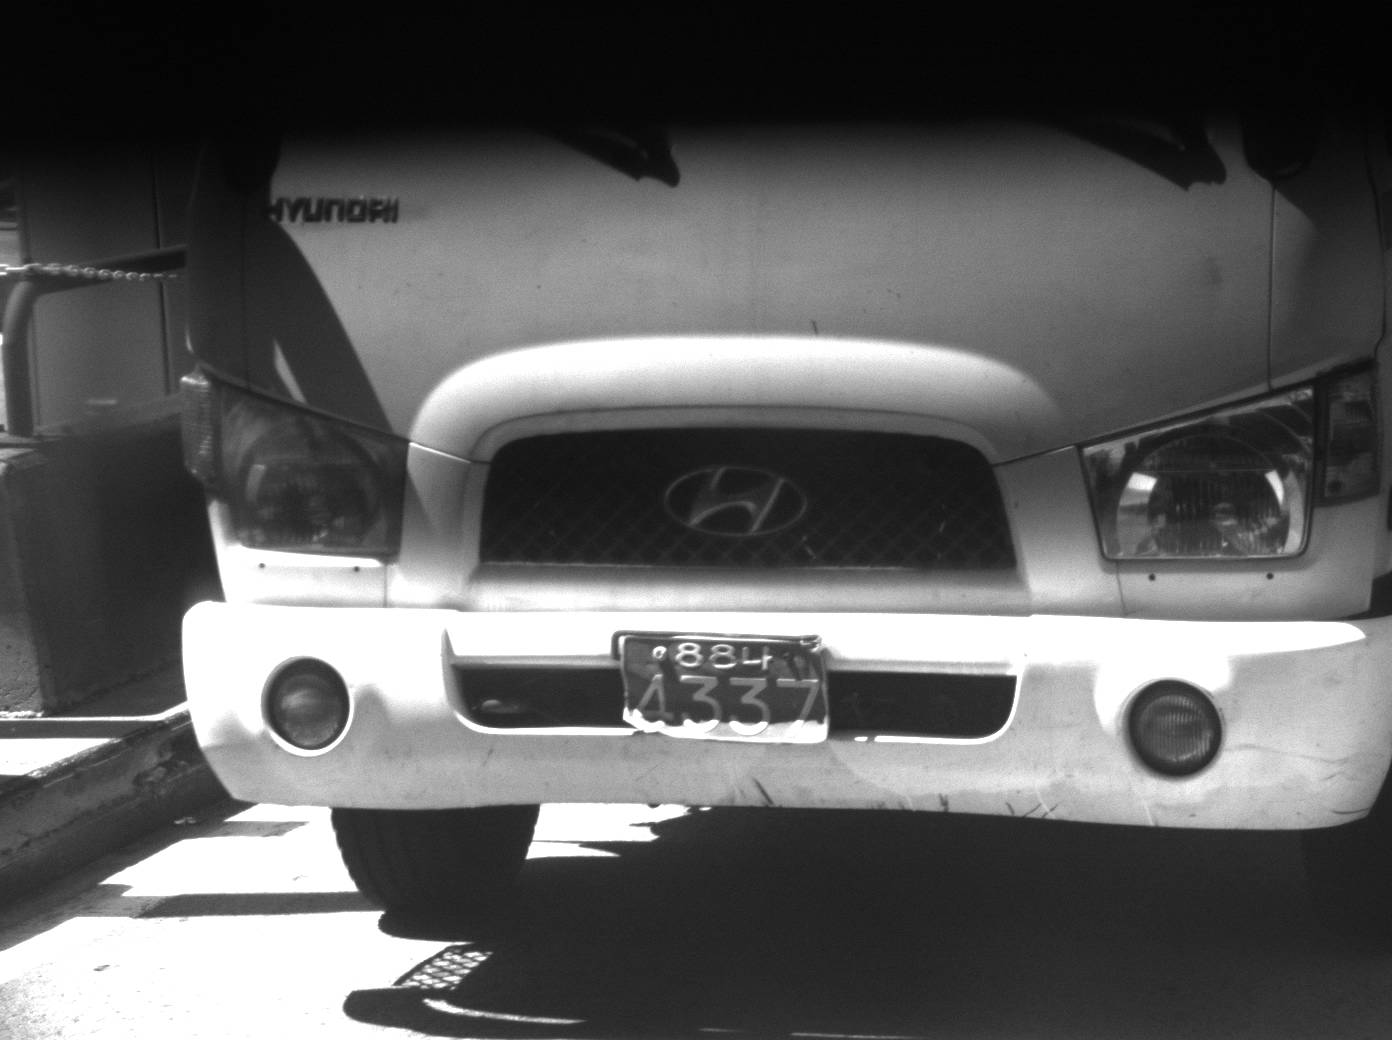car: (176, 146, 1392, 924)
plate: (619, 634, 829, 743)
